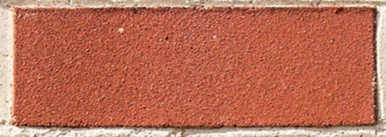redbrick: (1, 1, 386, 137)
